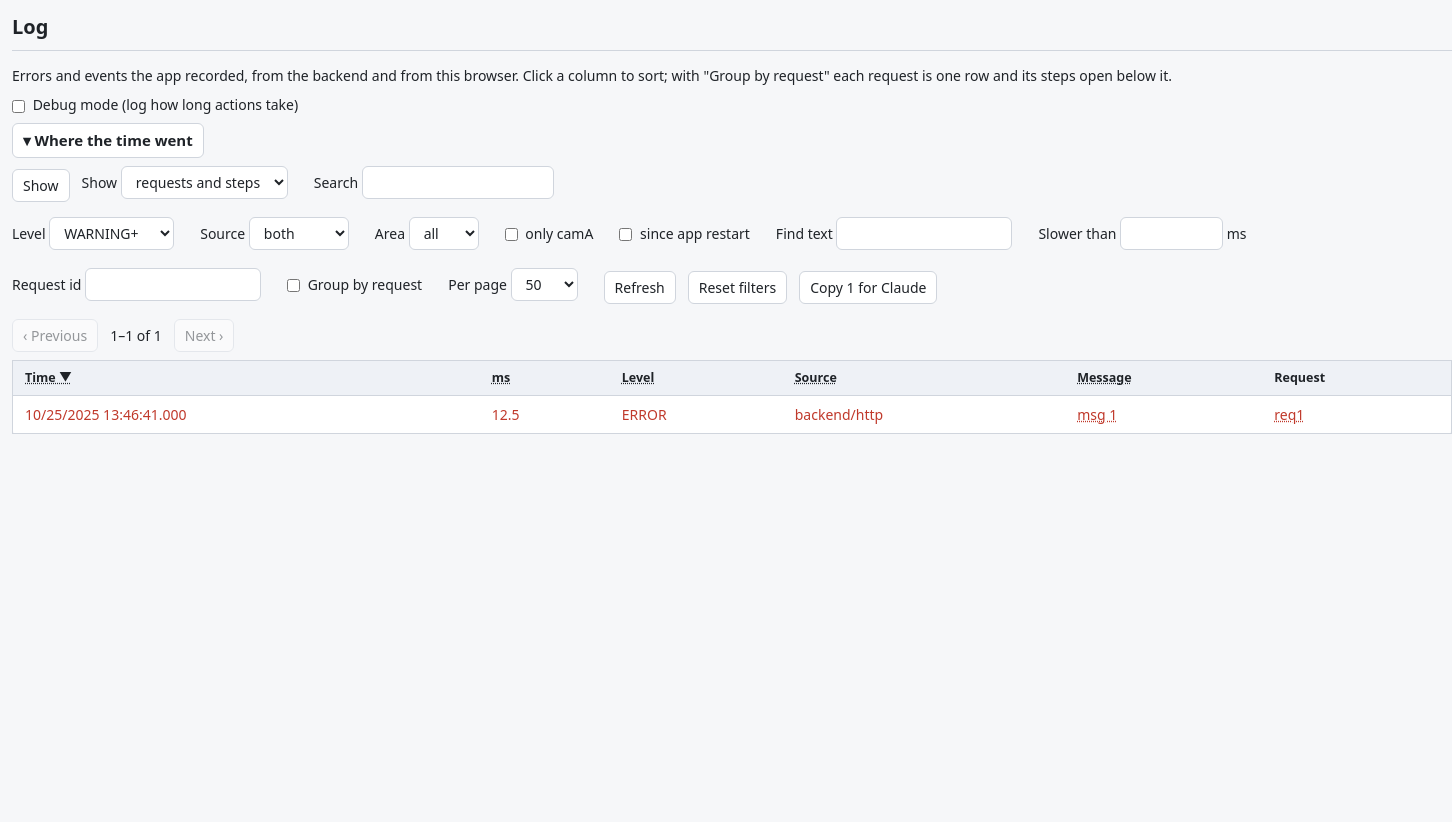
Test: a record opens to its traceback
This screenshot has width=1452, height=822.
Click the button "msg 1" at (1097,415), box [1077,402,1117,427]
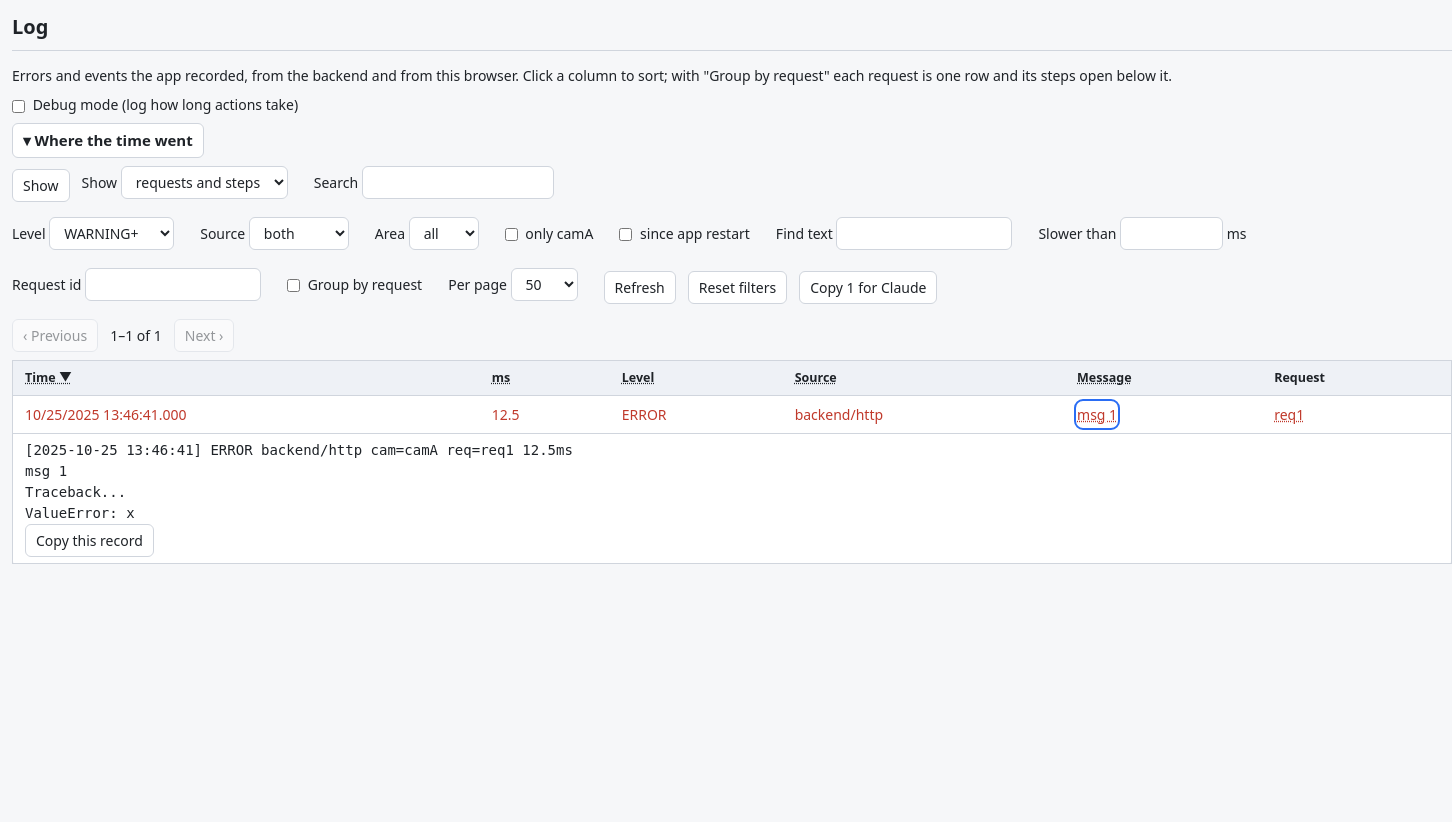
Check: the text "ValueError: x" is shown, box [25,442,573,521]
